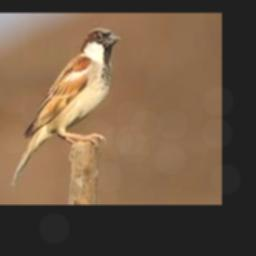Sparrow: (10, 28, 121, 188)
